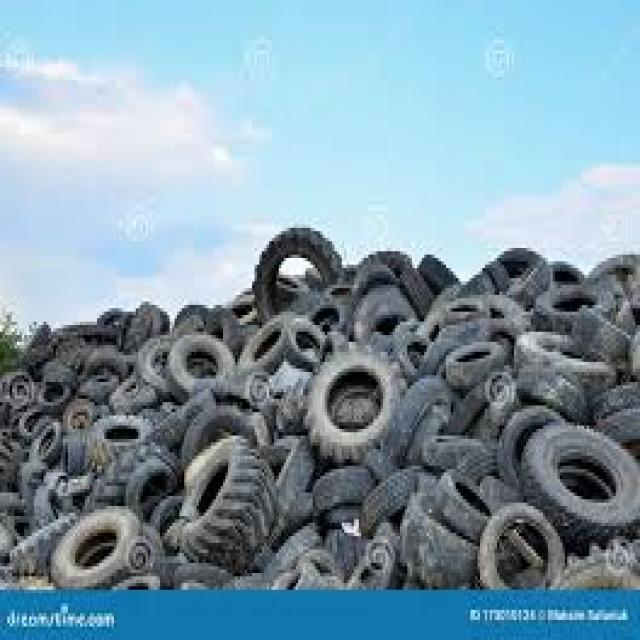Rubber -Non-Biodegradable but Recyclable-: (0, 234, 637, 596)
